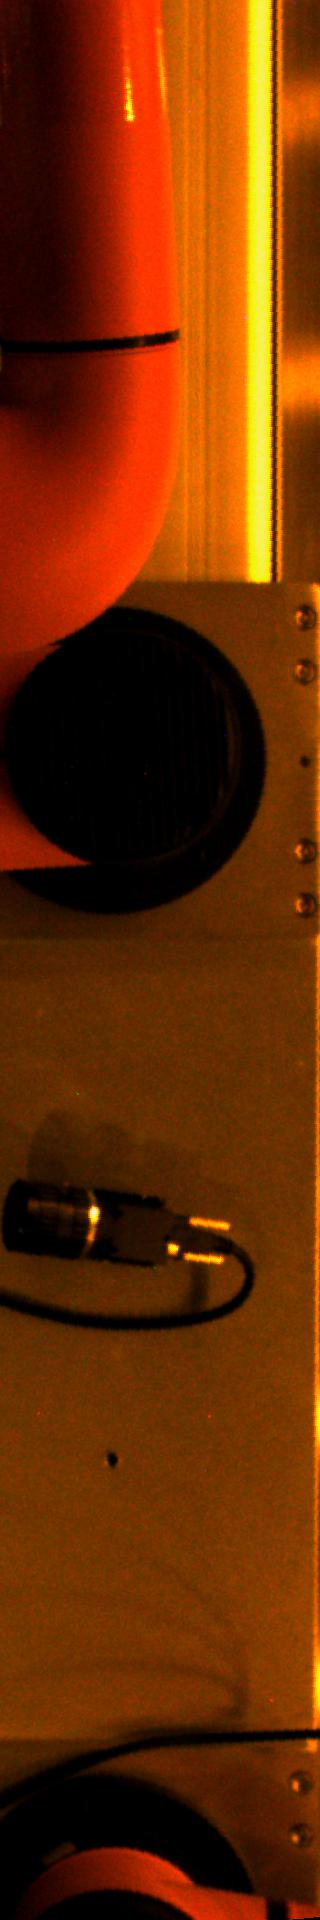keyPoint_2: (97, 1444, 128, 1474)
